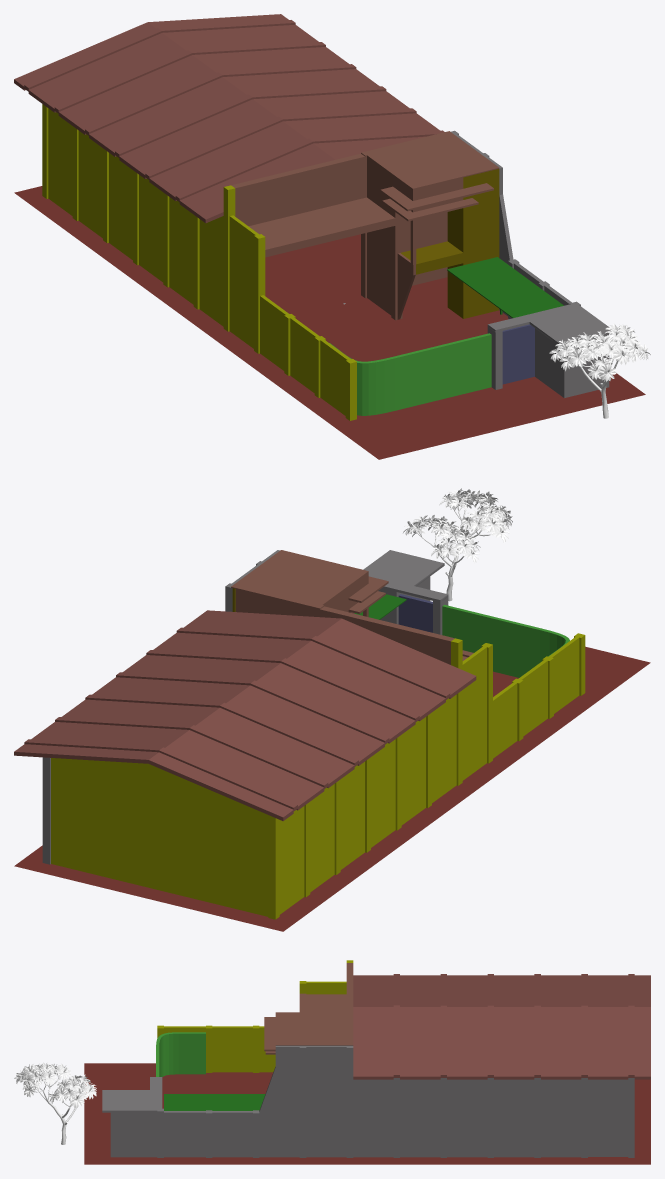
Rendered from Pabrik Reka Desain.glb.
3 views of the same model, one above another, from view 1: azimuth 30°, elevation 25°; view 2: azimuth 150°, elevation 25°; view 3: azimuth 270°, elevation 25° (orthographic). The views are drawn at different scales.
Visible parts, largest first — view 1: Cube.004, Plane, Cube, Cube.002, Cube.007, Cube.001, Cube.003, JASMIM+MANGA, Cube.006, Cube.005; view 2: Cube.004, Cube, Plane, Cube.002, Cube.007, Cube.001, JASMIM+MANGA, Cube.005; view 3: Cube.001, Cube.004, Plane, Cube.002, Cube, JASMIM+MANGA, Cube.007, Cube.006.
Boxes of the visible parts, x1,y1,x2,y2 form: Cube.004: [14, 14, 444, 223]; Plane: [14, 186, 645, 459]; Cube: [42, 104, 356, 420]; Cube.002: [231, 131, 499, 320]; Cube.007: [329, 333, 491, 415]; Cube.001: [451, 130, 611, 397]; Cube.003: [401, 169, 499, 318]; JASMIM+MANGA: [549, 323, 650, 418]; Cube.006: [447, 257, 563, 318]; Cube.005: [502, 324, 534, 384]; Cube.004: [14, 610, 476, 820]; Cube: [51, 633, 585, 919]; Plane: [14, 646, 650, 931]; Cube.002: [231, 550, 473, 664]; Cube.007: [442, 604, 569, 677]; Cube.001: [42, 550, 448, 864]; JASMIM+MANGA: [403, 488, 512, 601]; Cube.005: [398, 594, 432, 632]; Cube.001: [102, 1045, 634, 1157]; Cube.004: [353, 974, 650, 1079]; Plane: [84, 1063, 650, 1164]; Cube.002: [264, 963, 353, 1054]; Cube: [157, 960, 353, 1072]; JASMIM+MANGA: [14, 1062, 96, 1144]; Cube.007: [156, 1032, 205, 1076]; Cube.006: [164, 1094, 265, 1110].
Size of the model in its own units: 148 by 75.61 by 394.
